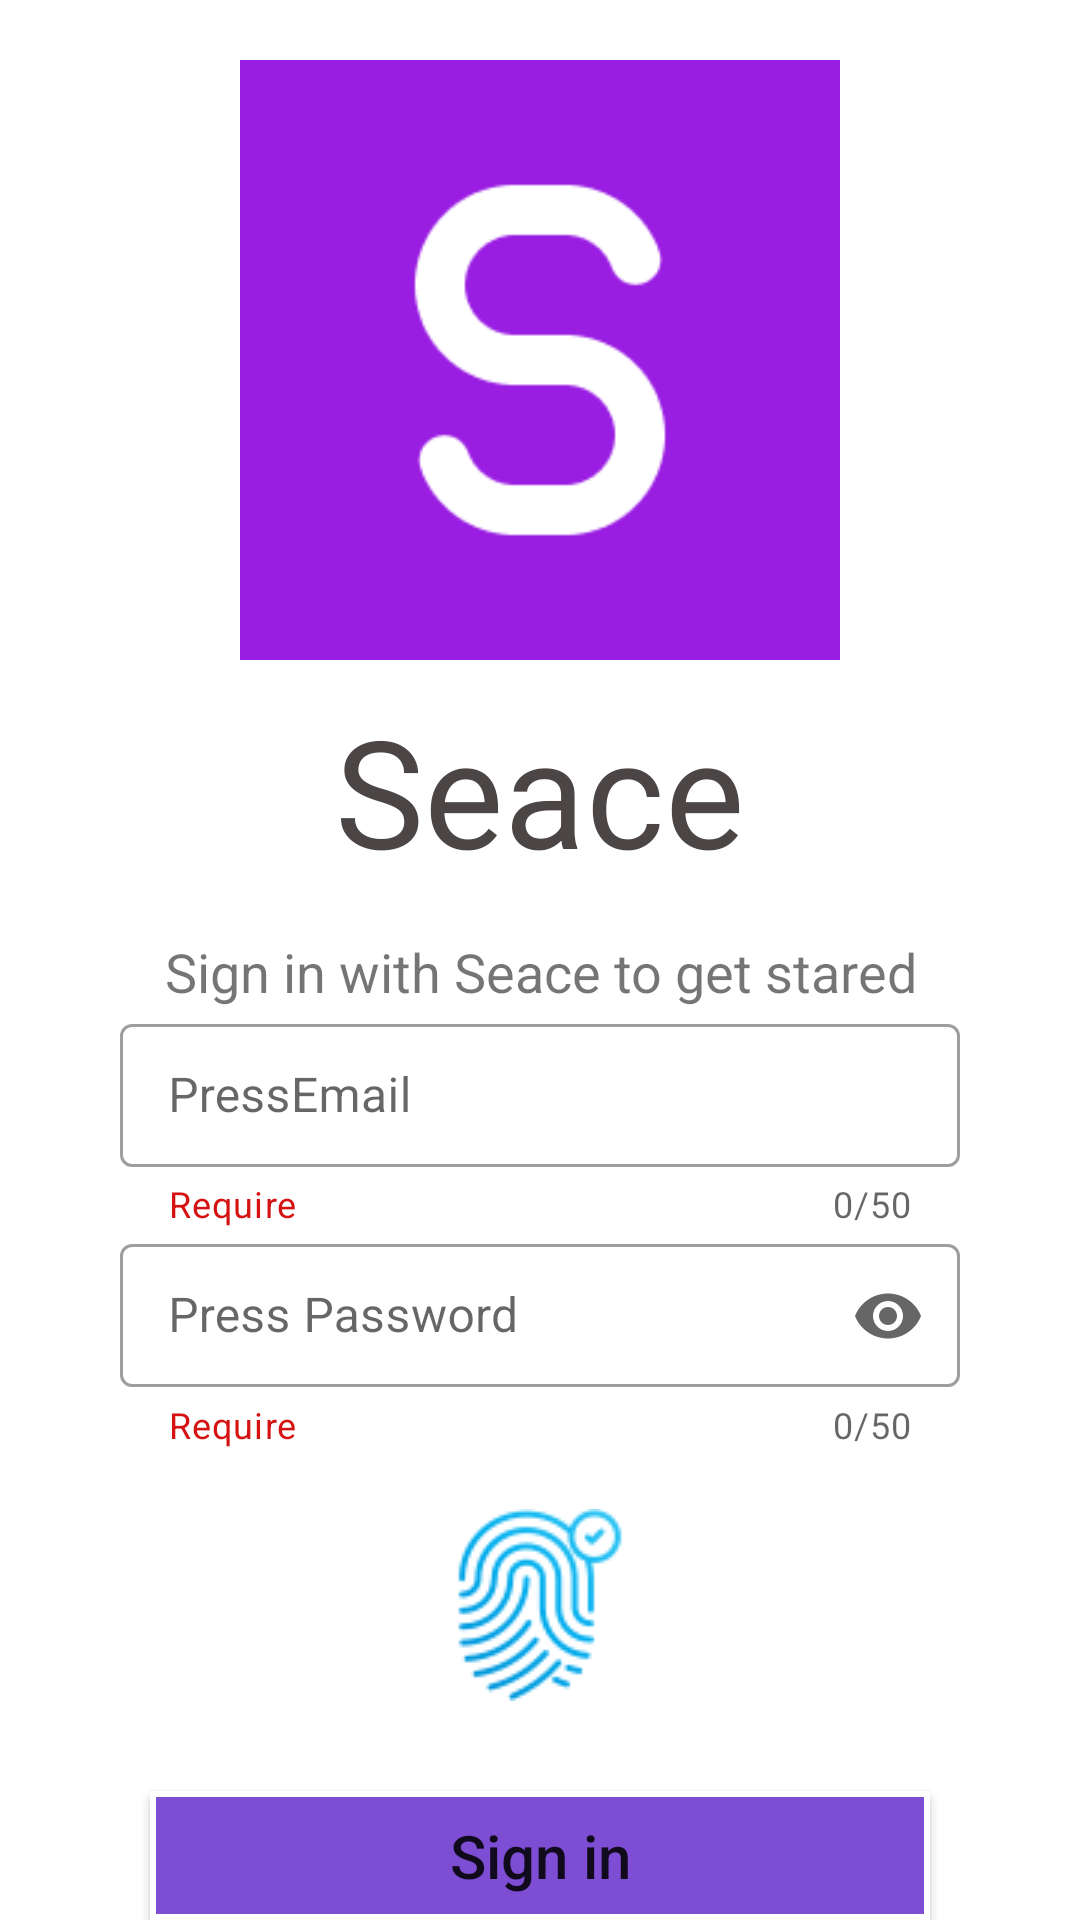

Point at icon controls on the screen. Image size 1080*1920, points as (x,y).
fingerprint: (540,1605)
